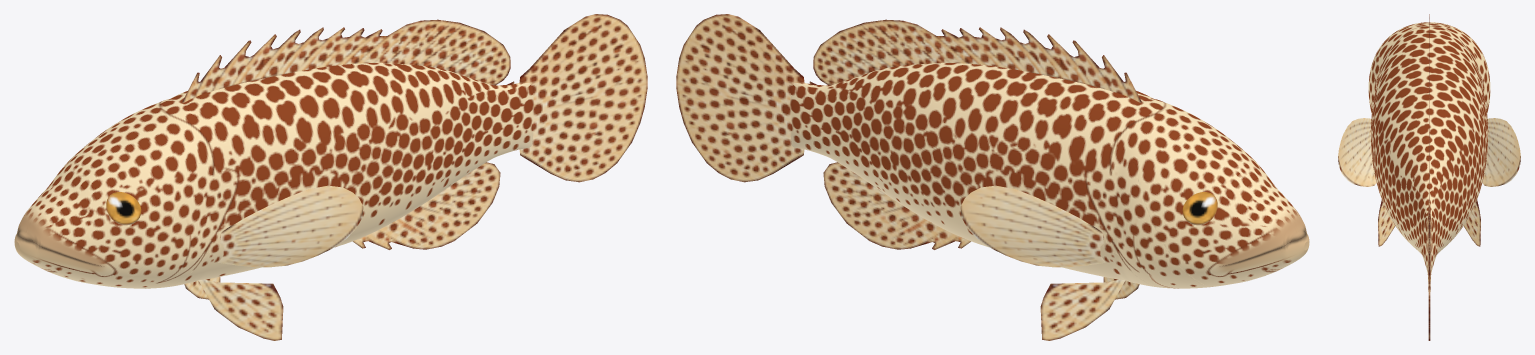
File: kanmonhata-light-v5.glb
The picture shows the model from 3 angles, left to right: view 1: azimuth 30°, elevation 25°; view 2: azimuth 150°, elevation 25°; view 3: azimuth 270°, elevation 25°; orthographic projection. The views are drawn at different scales.
Visible parts, largest first — view 1: body, caudal, dorsal, pectoral_1, operculum_1, anal, pelvic_1, eye_1; view 2: body, caudal, dorsal, pectoral_-1, operculum_-1, anal, pelvic_-1, eye_-1; view 3: body, pectoral_-1, pectoral_1, caudal, pelvic_-1, pelvic_1, operculum_-1, operculum_1, dorsal.
Boxes of the visible parts, box(x1,y1,x2,y2) form: body: box(14, 63, 533, 286); caudal: box(519, 14, 647, 182); dorsal: box(182, 19, 514, 102); pectoral_1: box(218, 185, 363, 267); operculum_1: box(114, 163, 237, 288); anal: box(353, 162, 500, 249); pelvic_1: box(198, 279, 283, 340); eye_1: box(106, 192, 141, 225); body: box(790, 63, 1309, 286); caudal: box(676, 14, 804, 182); dorsal: box(809, 19, 1141, 102); pectoral_-1: box(960, 185, 1105, 267); operculum_-1: box(1086, 163, 1209, 288); anal: box(823, 162, 970, 249); pelvic_-1: box(1040, 279, 1125, 340); eye_-1: box(1182, 192, 1217, 225); body: box(1370, 22, 1488, 272); pectoral_-1: box(1482, 118, 1520, 186); pectoral_1: box(1338, 118, 1376, 186); caudal: box(1426, 200, 1432, 340); pelvic_-1: box(1464, 199, 1480, 246); pelvic_1: box(1378, 199, 1394, 246); operculum_-1: box(1476, 50, 1490, 113); operculum_1: box(1368, 50, 1382, 113); dorsal: box(1429, 14, 1429, 199).
Bounding box in the file's own units: 0.2502 × 0.1056 × 0.0768.
Materials: 3 (3 with a texture image).
